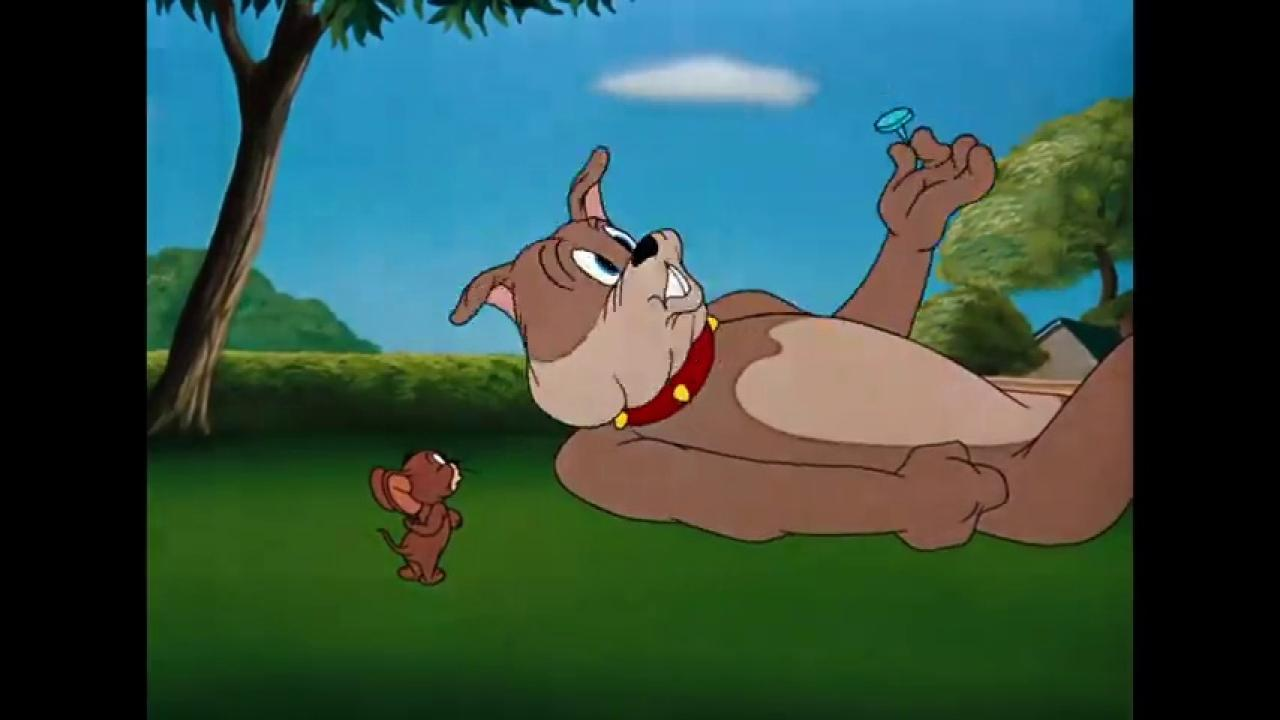Jerry: (368, 445, 479, 585)
